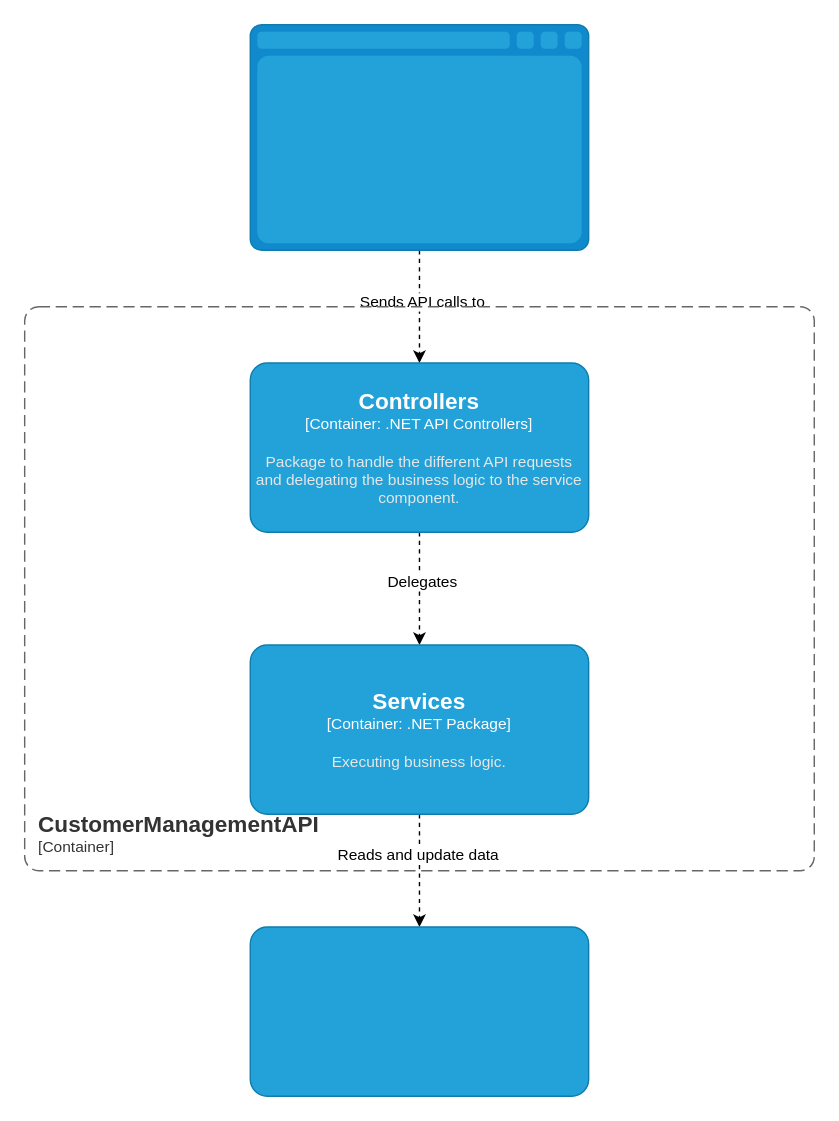
The diagram is 839 pixels wide and 1121 high, and some of its shapes have lost their labels. The box of each missing label's shape, as (x1, y1, x2, y2) in pixels:
CustomerManagement [Container: SQL Server 2019] Stores the data of the rentals.: (249, 926, 589, 1096)
WebApp [Container: Razor webapp] Pitstop Front-end: (249, 23, 589, 250)
